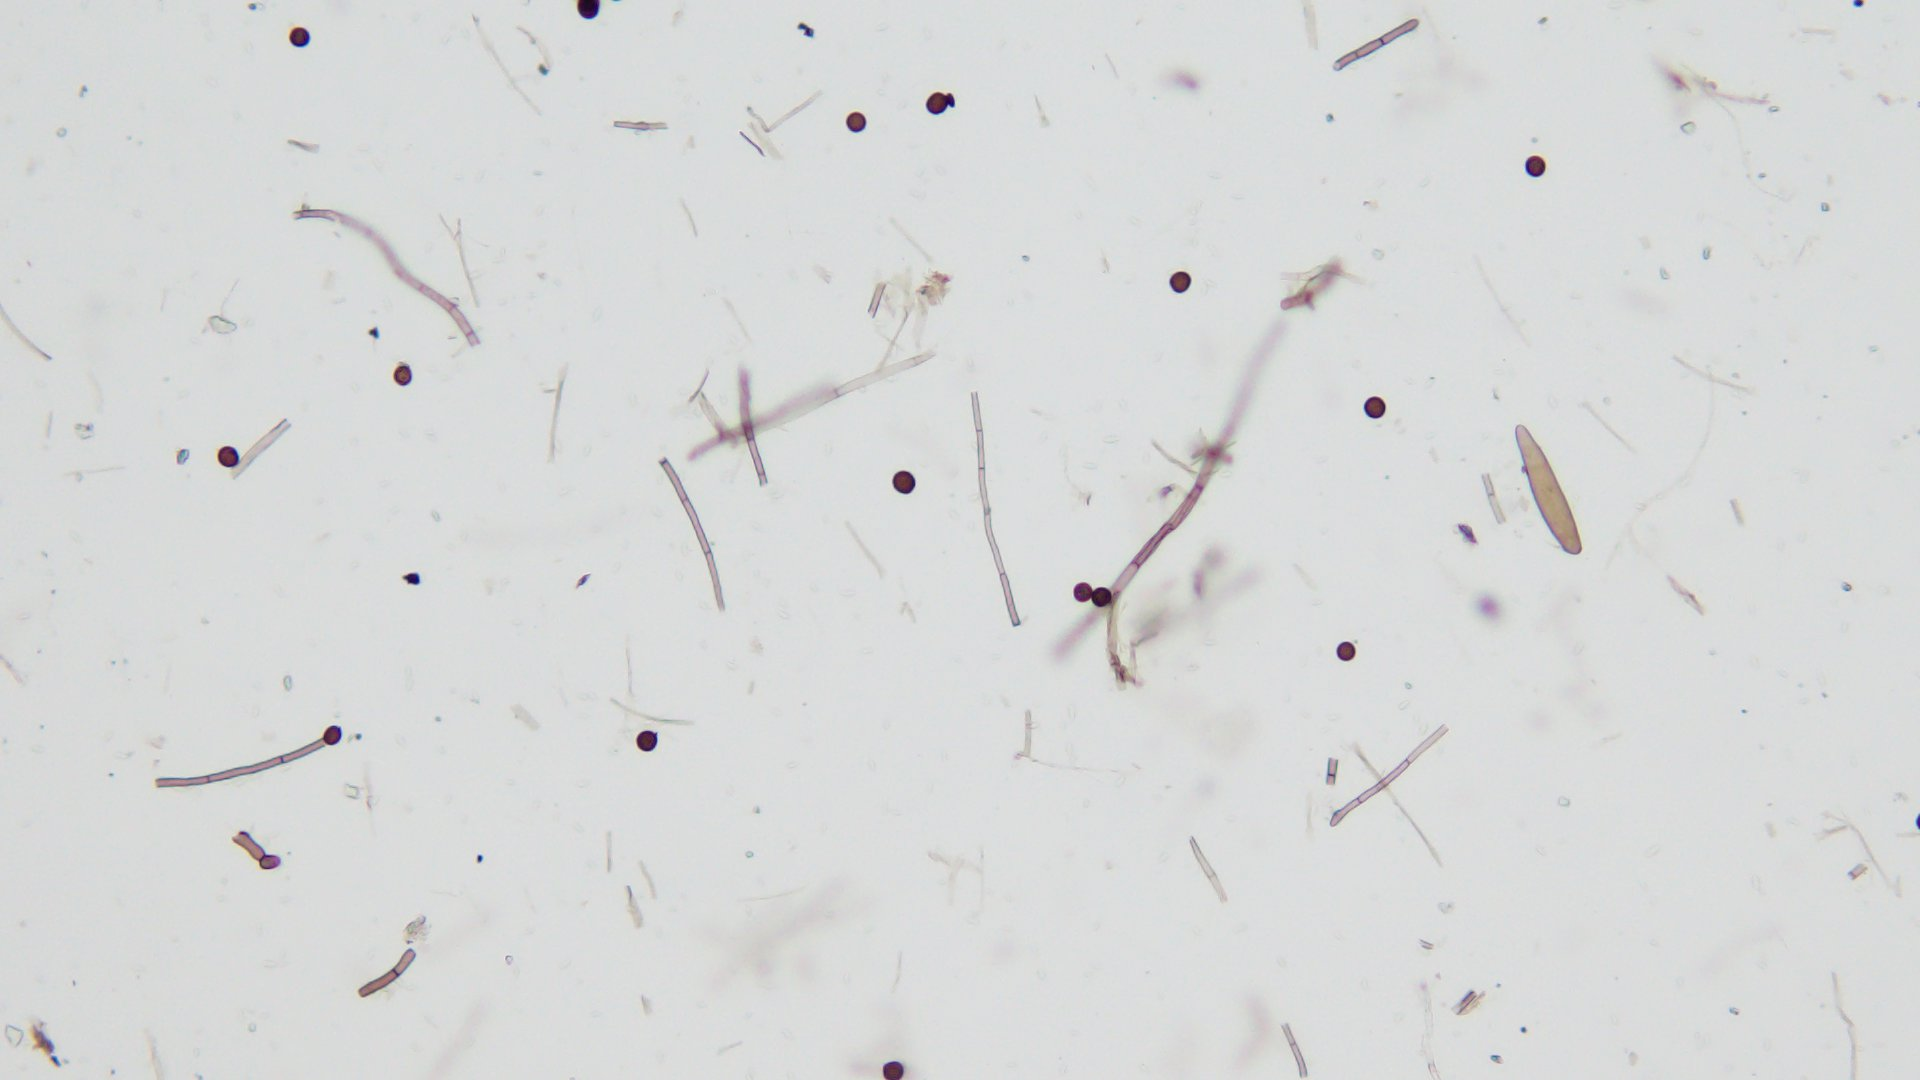dbb_spore: (1513, 421, 1582, 558)
shs_spore: (923, 91, 953, 116), (1364, 393, 1387, 419), (636, 728, 661, 752), (1168, 269, 1193, 293), (893, 469, 916, 495), (216, 447, 241, 468), (1091, 585, 1112, 611), (287, 25, 310, 47), (845, 109, 868, 132), (1524, 156, 1548, 177), (1335, 642, 1358, 662), (578, 1, 601, 20), (392, 365, 411, 386), (1071, 582, 1092, 601), (324, 727, 342, 746)
